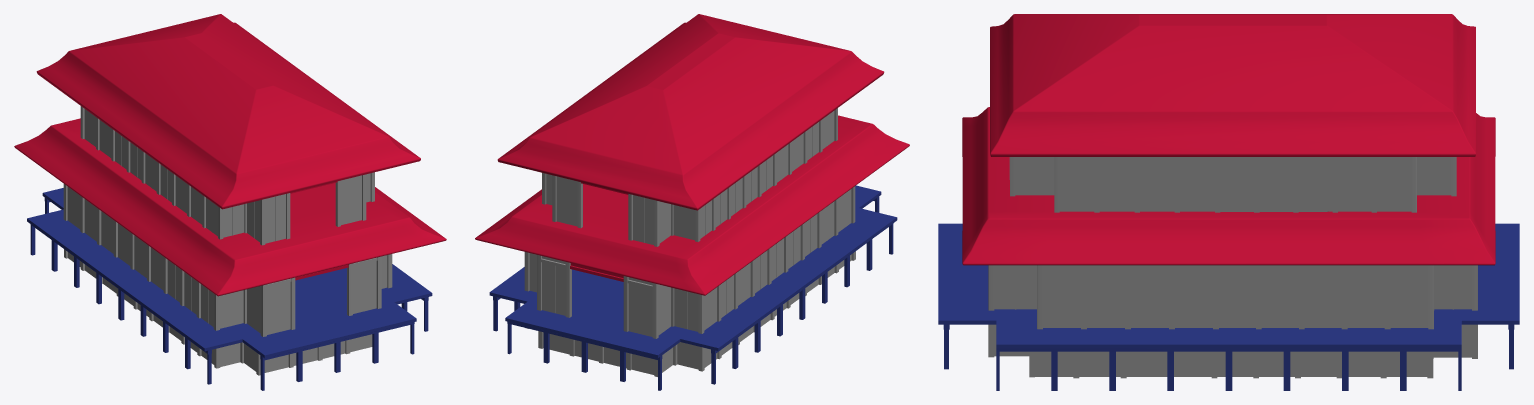
The model's file is Building2.FBX.
3 renders of one model, left to right at view 1: azimuth 30°, elevation 25°; view 2: azimuth 150°, elevation 25°; view 3: azimuth 270°, elevation 25°, orthographic. The views are drawn at different scales.
Visible parts, largest first — view 1: TopRoof, Building; view 2: TopRoof, Building; view 3: TopRoof, Building.
Part boxes in pixels (bbox=[...]): TopRoof: bbox=[14, 14, 446, 296]; Building: bbox=[27, 106, 432, 390]; TopRoof: bbox=[475, 14, 909, 295]; Building: bbox=[489, 108, 897, 390]; TopRoof: bbox=[962, 14, 1495, 265]; Building: bbox=[938, 157, 1519, 390].
Size of the model in its own units: 283 by 272 by 475.
